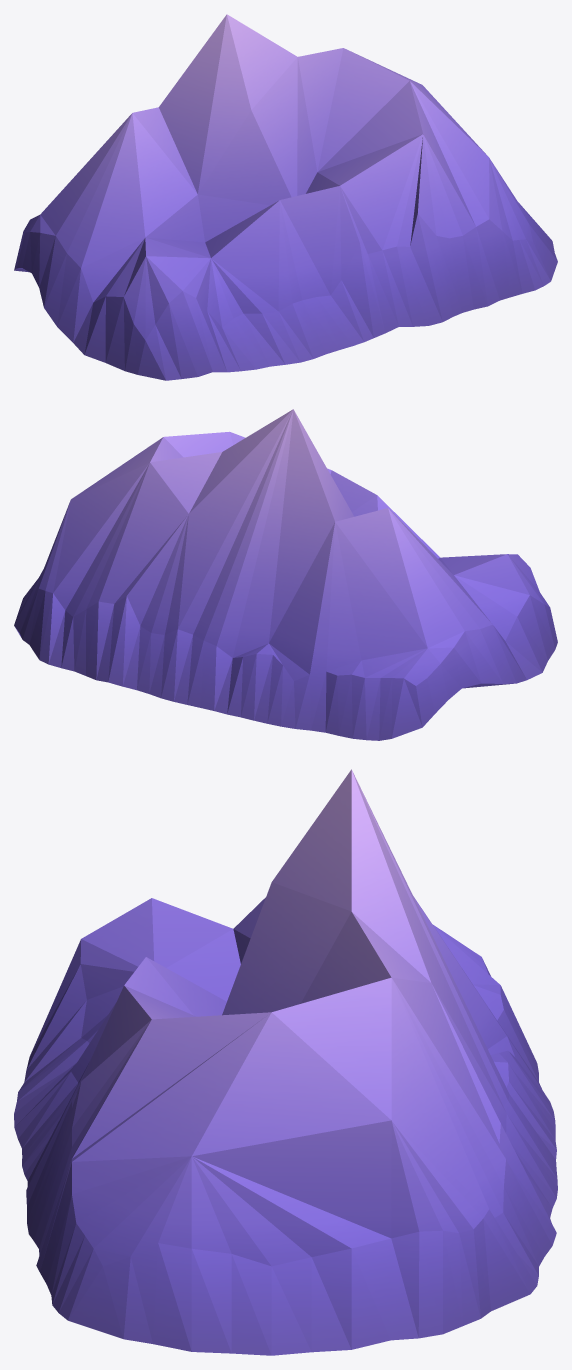
File: Night_Mountain_002.FBX
The picture shows the model from 3 angles, top to bottom: view 1: azimuth 30°, elevation 25°; view 2: azimuth 150°, elevation 25°; view 3: azimuth 270°, elevation 25°; orthographic projection. The views are drawn at different scales.
Parts seen in each view (by area): view 1: Night_Mountain_002; view 2: Night_Mountain_002; view 3: Night_Mountain_002.
Part boxes in pixels (x1,y1,x2,y2): Night_Mountain_002: (14, 14, 557, 380); Night_Mountain_002: (14, 409, 557, 740); Night_Mountain_002: (14, 769, 557, 1355).
Size of the model in its own units: 4628 by 2406 by 3058.
Materials: 1 (1 with a texture image).
